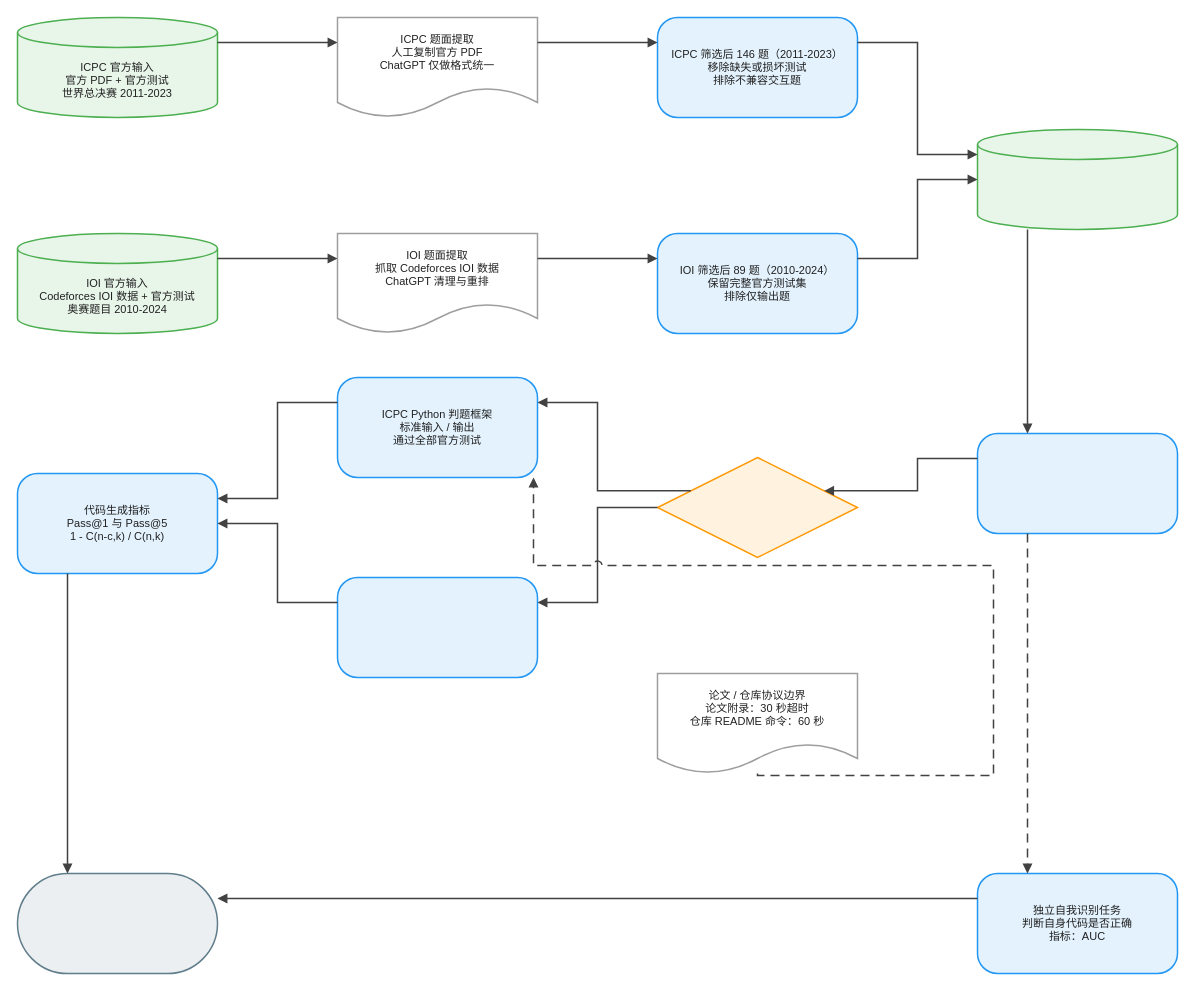
Image size: 1196x992. Some labels were removed from this diagram. The shapes that lost their labels are listed below. From the top down, each one's centre as x and y in pixels, then its label:
At point 1077,179: "HLCE 代码题套件 共 235 题 146 道 ICPC + 89 道 IOI".
At point 1077,483: "生成代码候选 每题 5 个回答 OpenRouter 默认超参数".
At point 757,507: "按竞赛类型分流 ICPC：离线标准 I/O IOI：官方在线判题".
At point 437,627: "IOI Codeforces 提交机器人 官方判题得分必须为 100 任何部分分都视为失败".
At point 117,923: "HLCE 结果 代码正确性使用 Pass@k 自我识别使用 AUC".
